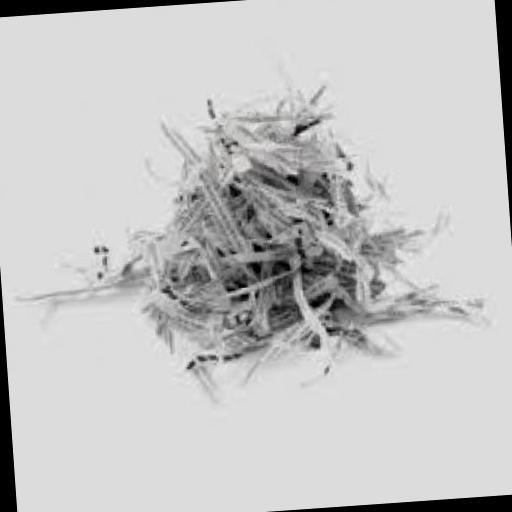paper: (0, 66, 495, 417)
